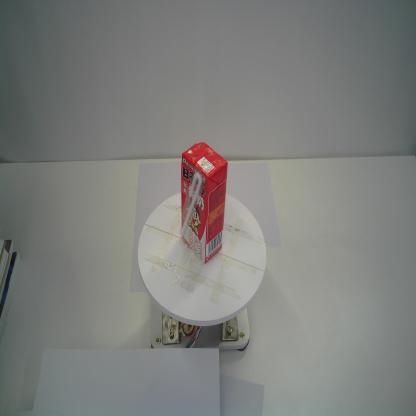Milk: (180, 141, 228, 264)
